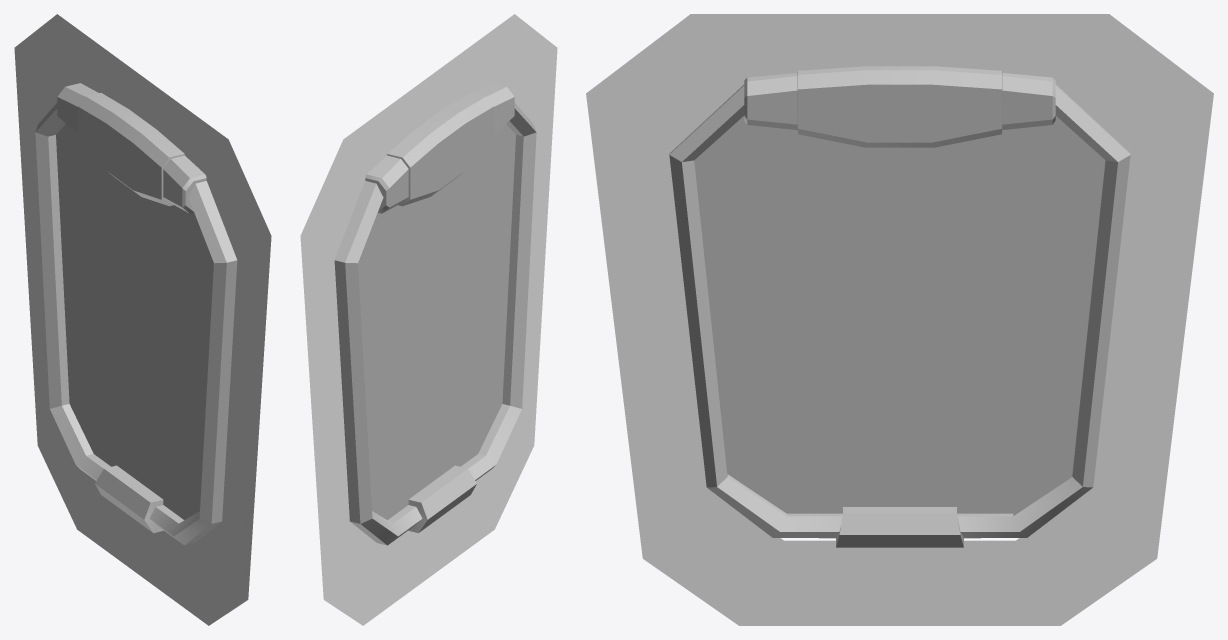
File: Museum_Deco_InfoScreen_01_Art.fbx
The picture shows the model from 3 angles, left to right: view 1: azimuth 30°, elevation 25°; view 2: azimuth 150°, elevation 25°; view 3: azimuth 270°, elevation 25°; orthographic projection. The views are drawn at different scales.
Parts seen in each view (by area): view 1: Museum_Deco_InfoScreen_01; view 2: Museum_Deco_InfoScreen_01; view 3: Museum_Deco_InfoScreen_01.
Part boxes in pixels (x1,y1,x2,y2): Museum_Deco_InfoScreen_01: [14, 14, 271, 625]; Museum_Deco_InfoScreen_01: [300, 14, 557, 625]; Museum_Deco_InfoScreen_01: [586, 14, 1213, 625].
Bounding box in the file's own units: 9.24 × 116 × 108.
